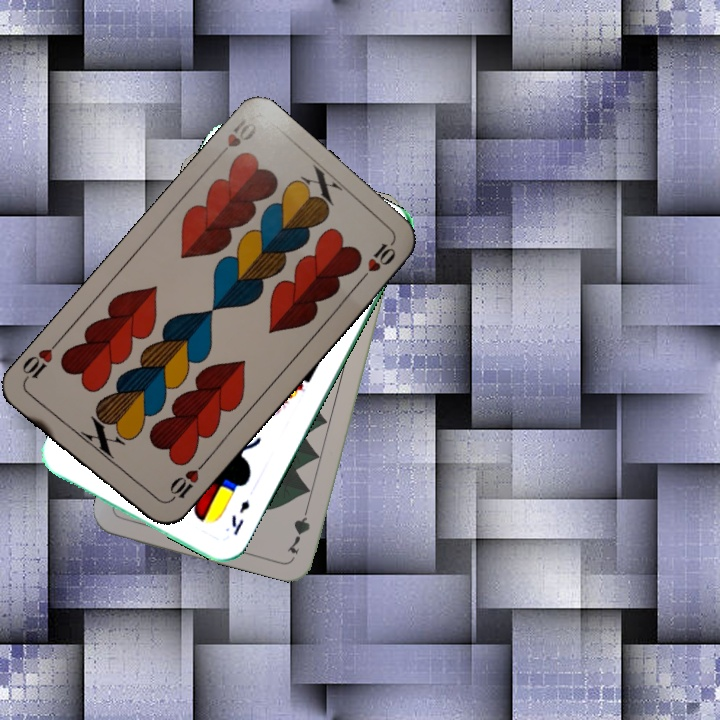EK: (227, 496, 253, 538)
G7: (282, 499, 313, 557)
H10: (210, 111, 260, 164), (162, 459, 207, 507)
